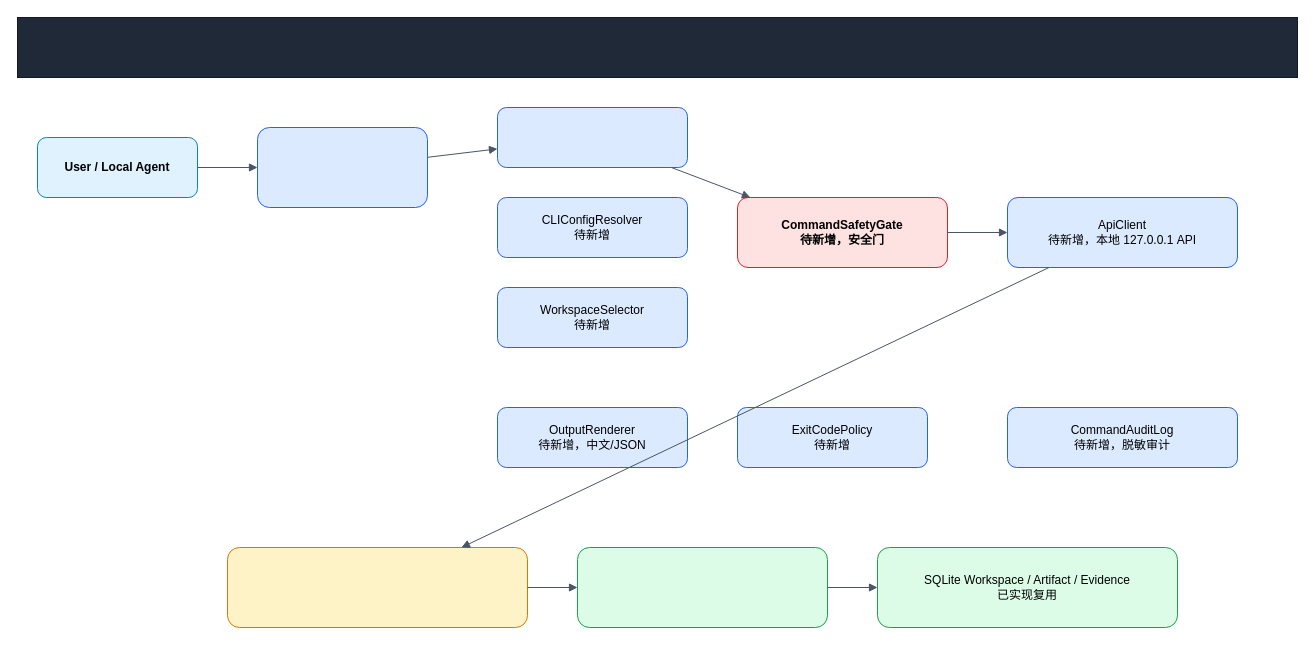
Image size: 1315x645. Some labels were removed from this diagram. Each missing label, with the centre of its shape:
"CLICommandRouter 待新增" goes at (x=592, y=137).
"Existing Domain Tools 已实现复用" goes at (x=702, y=587).
"Existing FastAPI Agent Service 已实现复用，部分 status/report/demo 汇总需适配" goes at (x=377, y=587).
"JobPilotCLI 待新增" goes at (x=342, y=167).
"P10-CLI 目标架构与代码实体状态" goes at (x=657, y=47).
